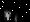person: (5, 10, 13, 22), (15, 11, 20, 22)
